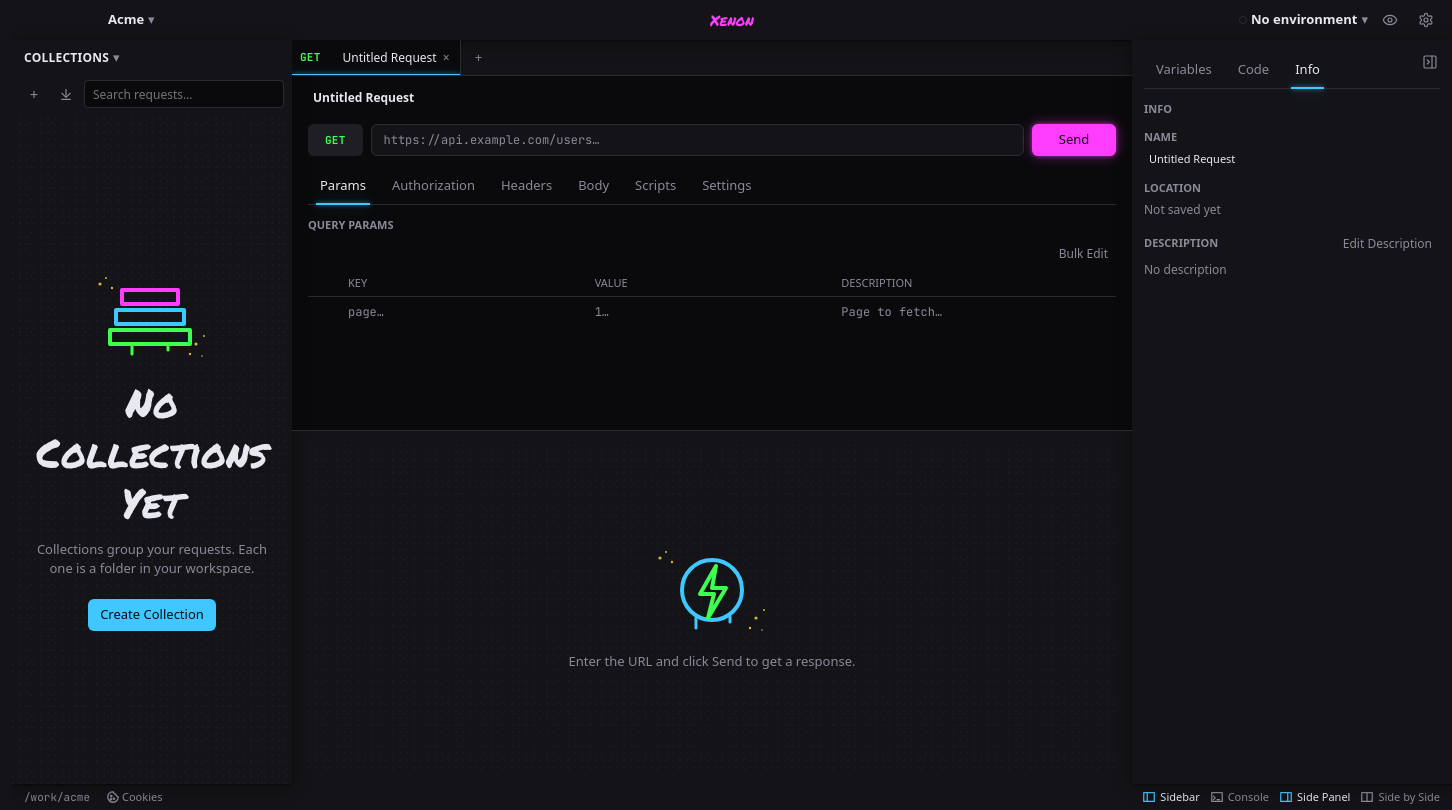
Test: App › opens the globals as a tab from the switcher and shows the environments in the sidebar for "Manage Environments…"
This screenshot has width=1452, height=810.
Expected: the field named "Request URL" is shown, [384,132,600,148]
Click the button with aria-label "Environment: No environment": (1304, 20) [1231,6,1376,34]
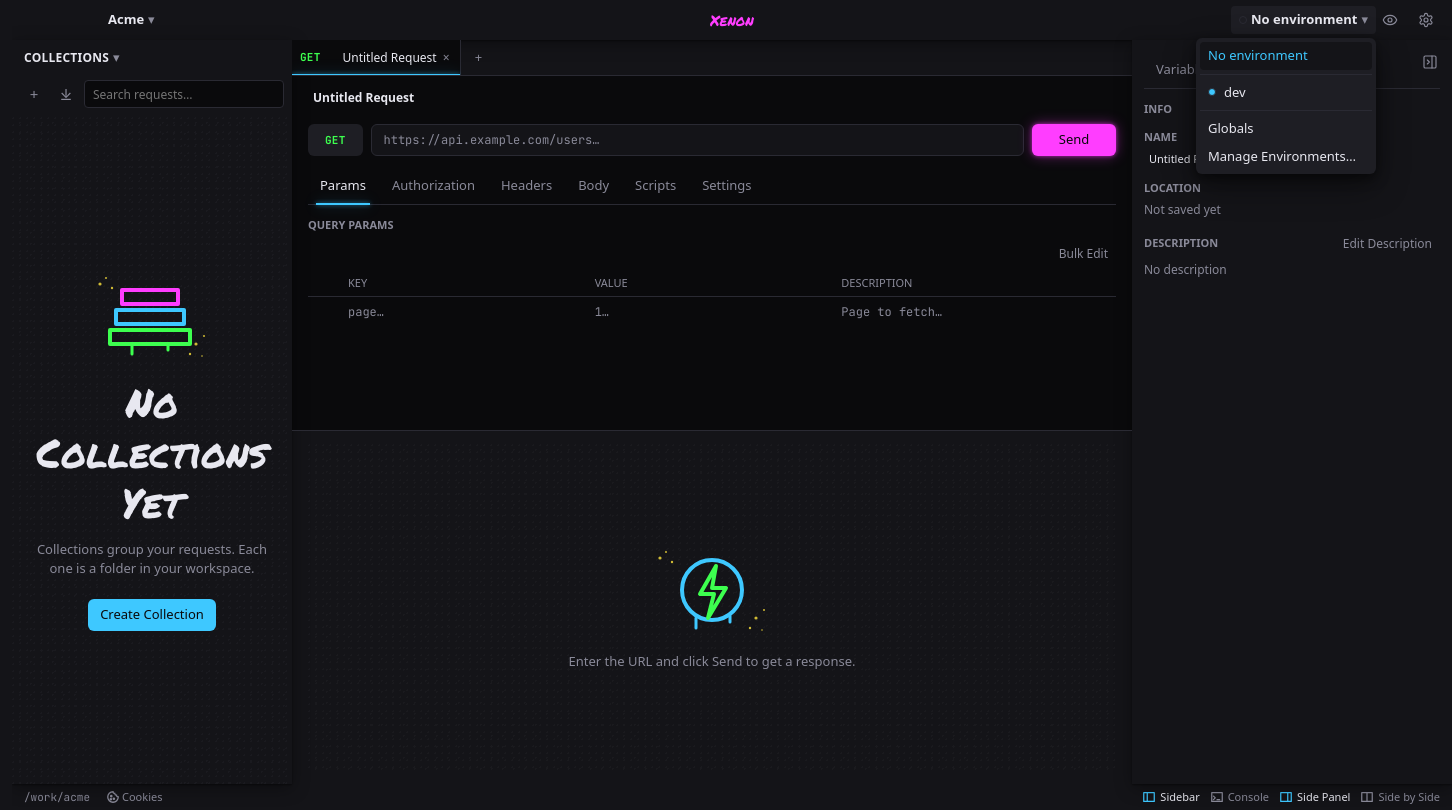
Click the menu item "Globals": (1286, 129) [1200,115,1372,142]
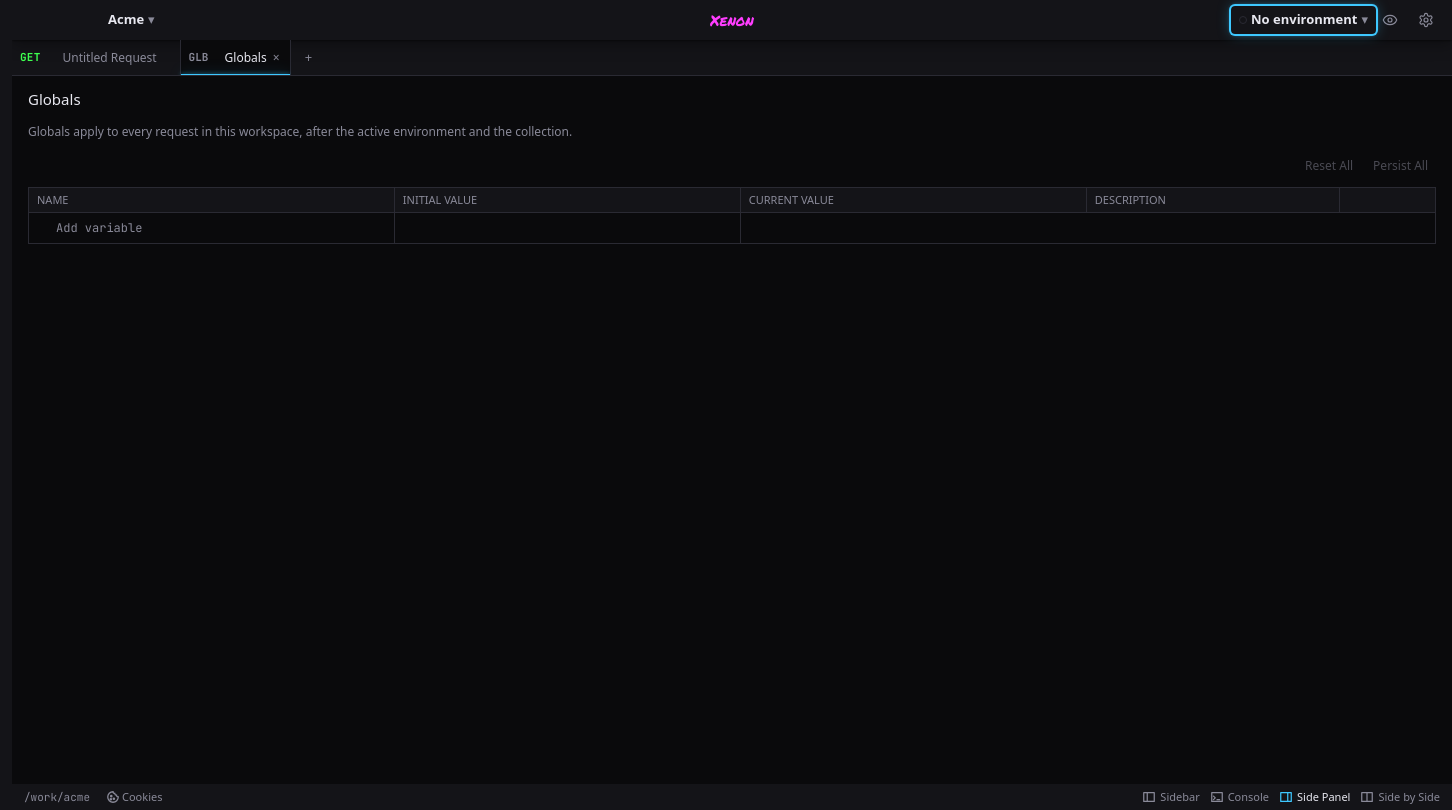
Now the number of tabs is 2, box [12,40,181,75]; [181,40,290,75]
Now the table named "Global variables" is shown, box [28,186,1436,244]
Click the button with aria-label "Environment: No environment": (1304, 20) [1231,6,1376,34]
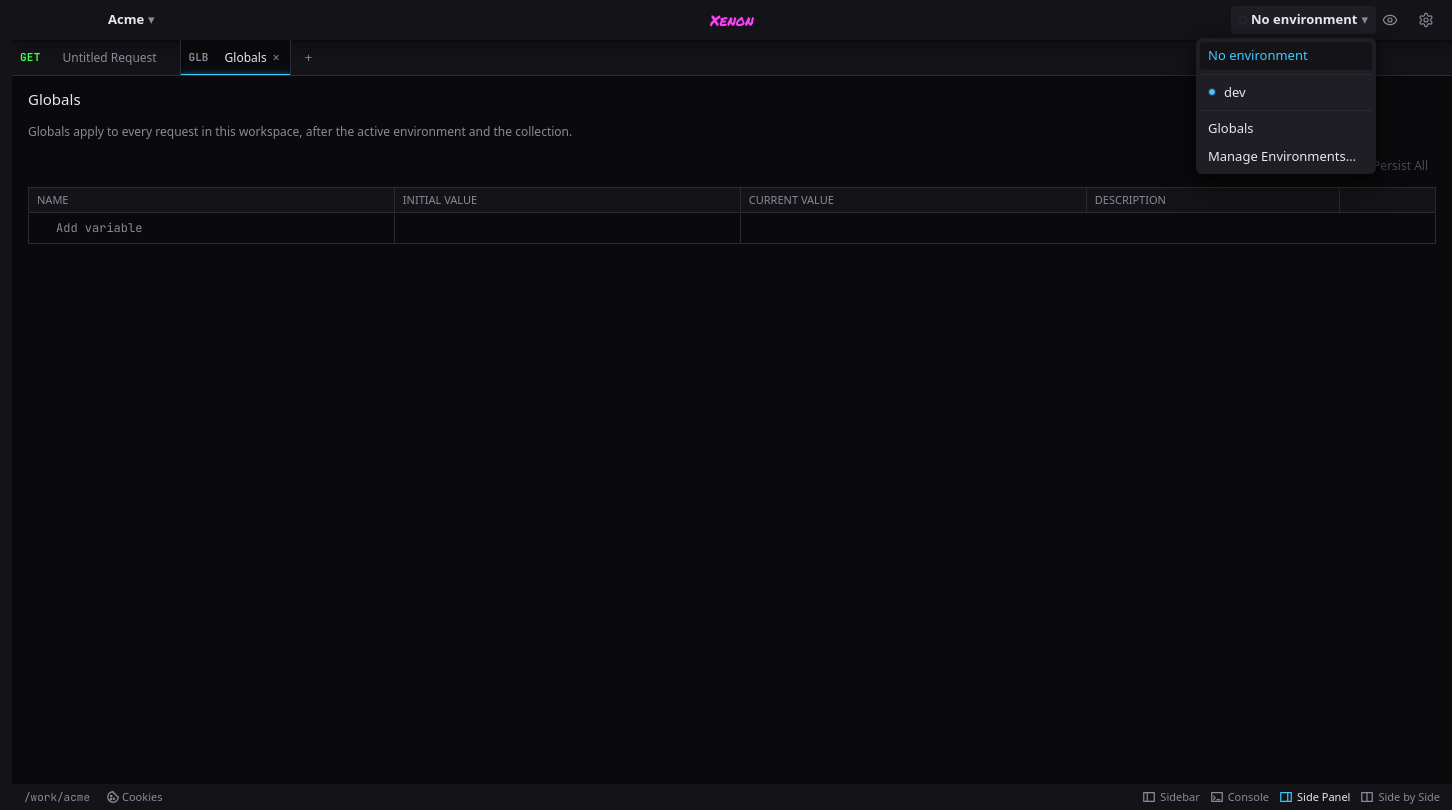
Click the menu item "Manage Environments…": (1286, 156) [1200,142,1372,170]
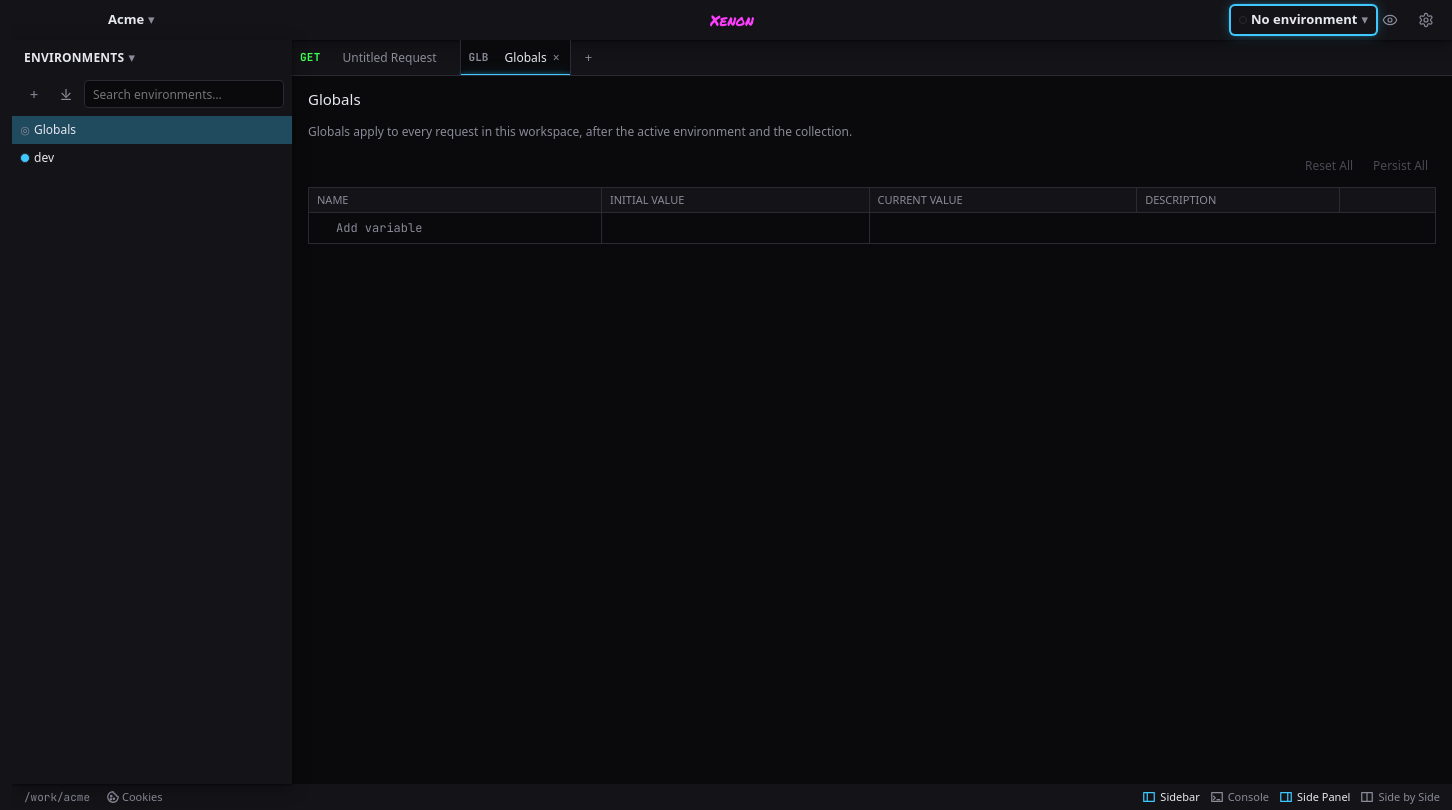
Click the button "dev": (25, 158) [12,144,292,172]
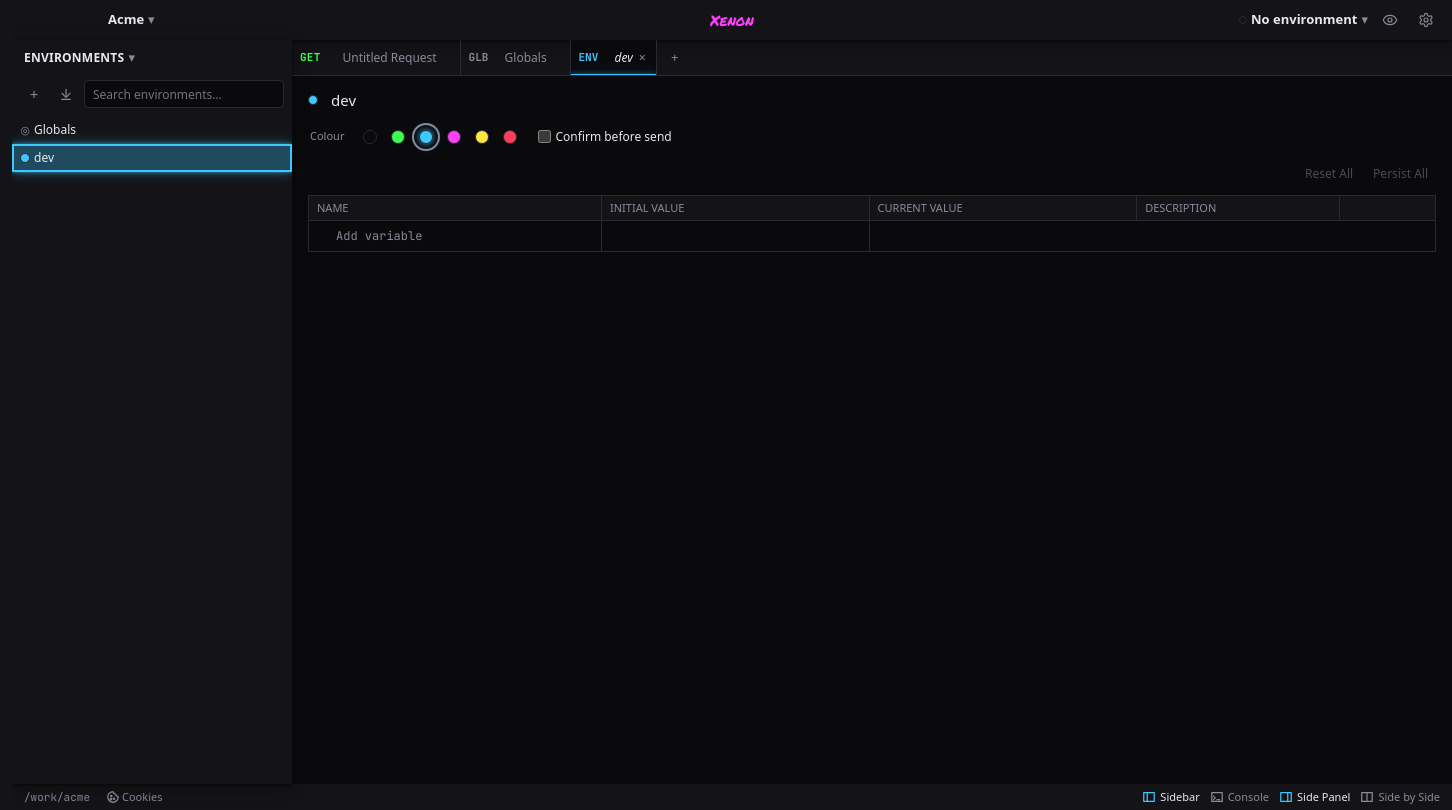
Now the table named "dev variables" is shown, box [308,194,1436,252]
Now the number of tabs is 3, box [292,40,461,75]; [461,40,570,75]; [570,40,657,75]
